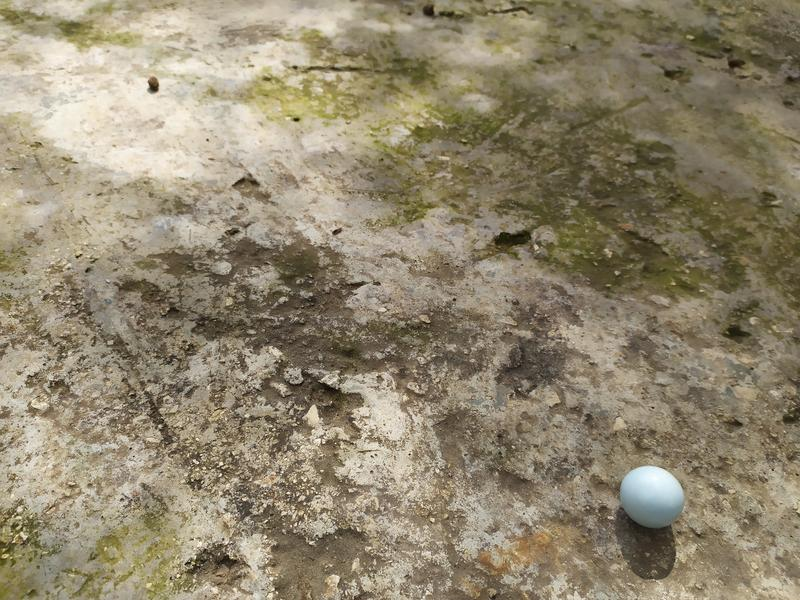Warning: (618, 464, 688, 531)
